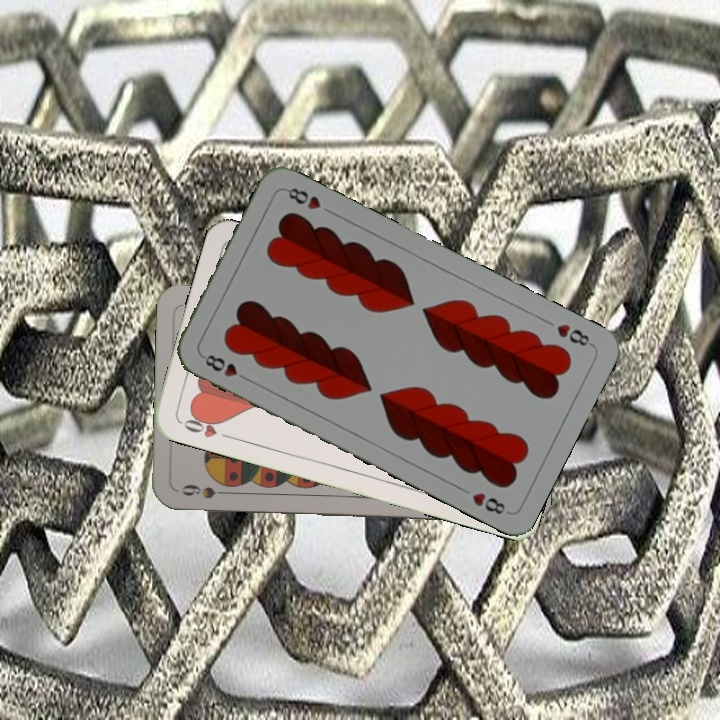H8: (198, 350, 253, 384), (552, 319, 596, 349)
HO: (177, 409, 235, 442)
S9: (178, 480, 235, 501)
